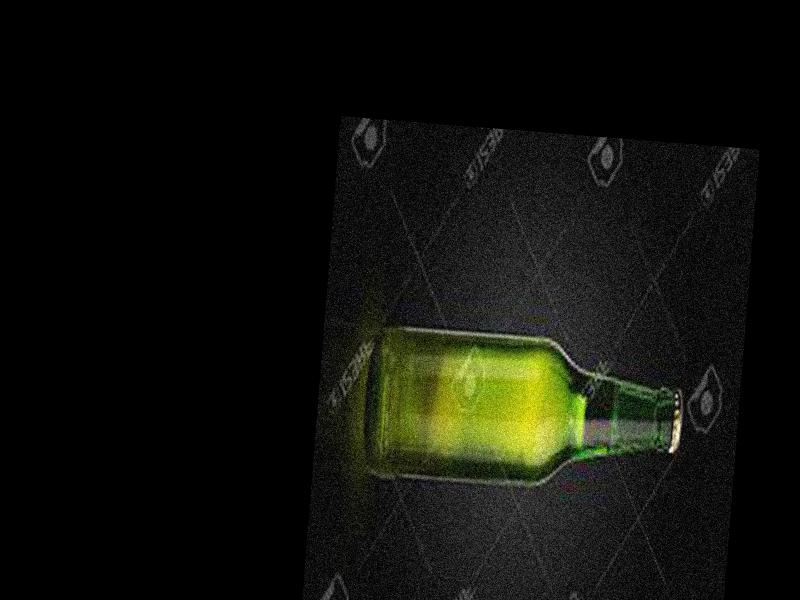Beer: (362, 321, 688, 495)
